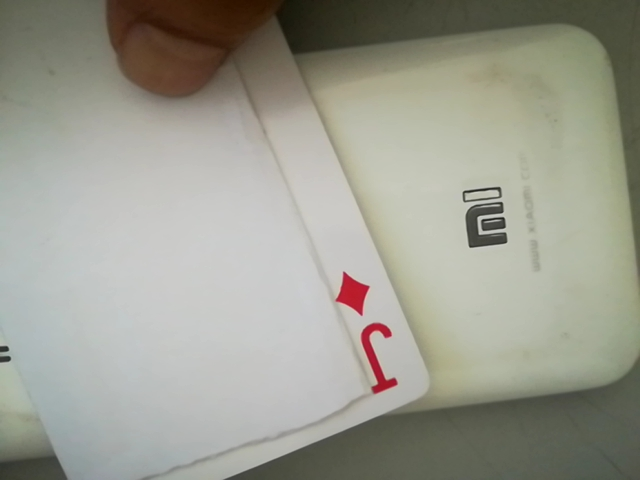fk j: (330, 266, 414, 403)
